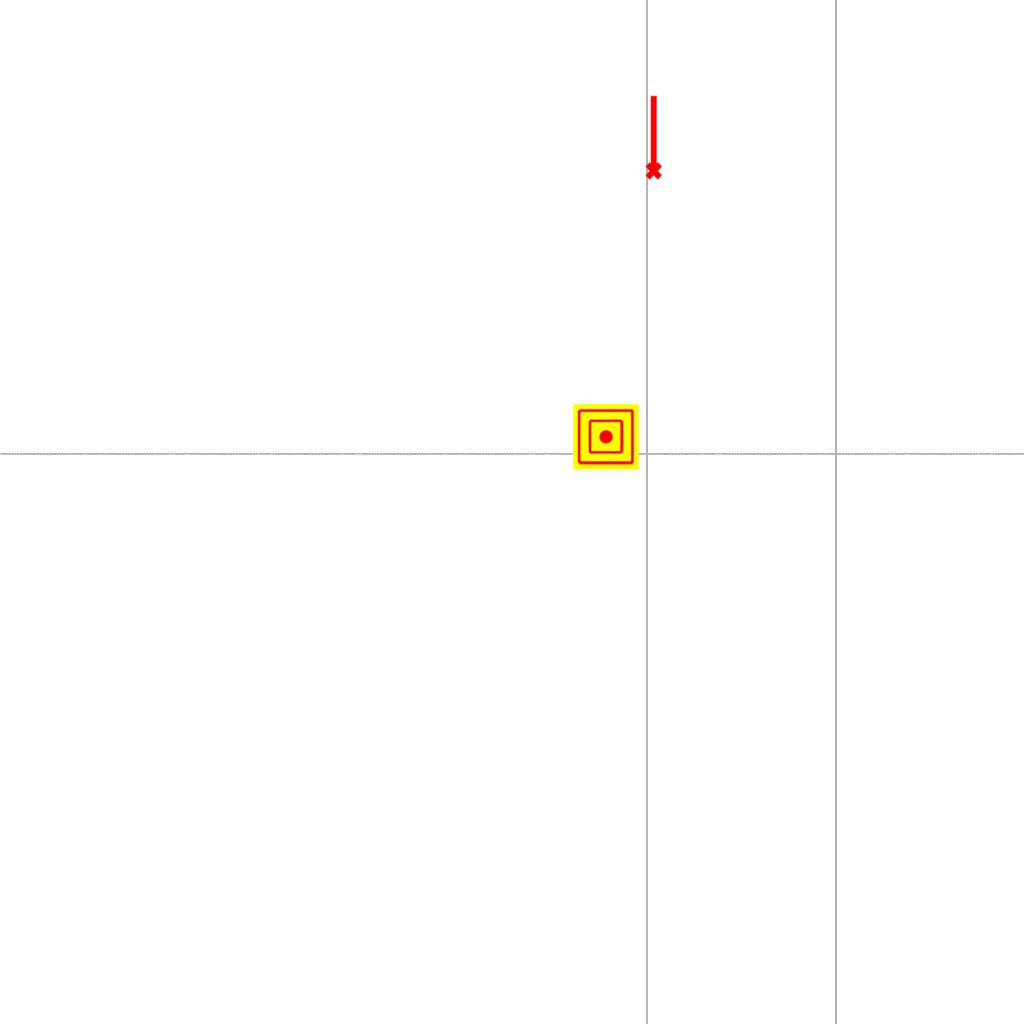ASR_Ansaugoeffnung: (641, 93, 664, 181)
NAM-Nichtautomatischer_Melder: (573, 404, 639, 470)
